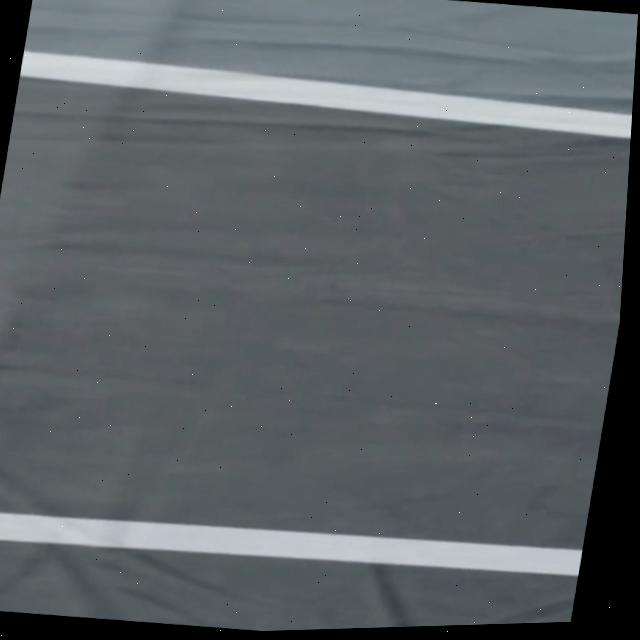center: (0, 511, 582, 574)
left: (20, 49, 632, 136)
